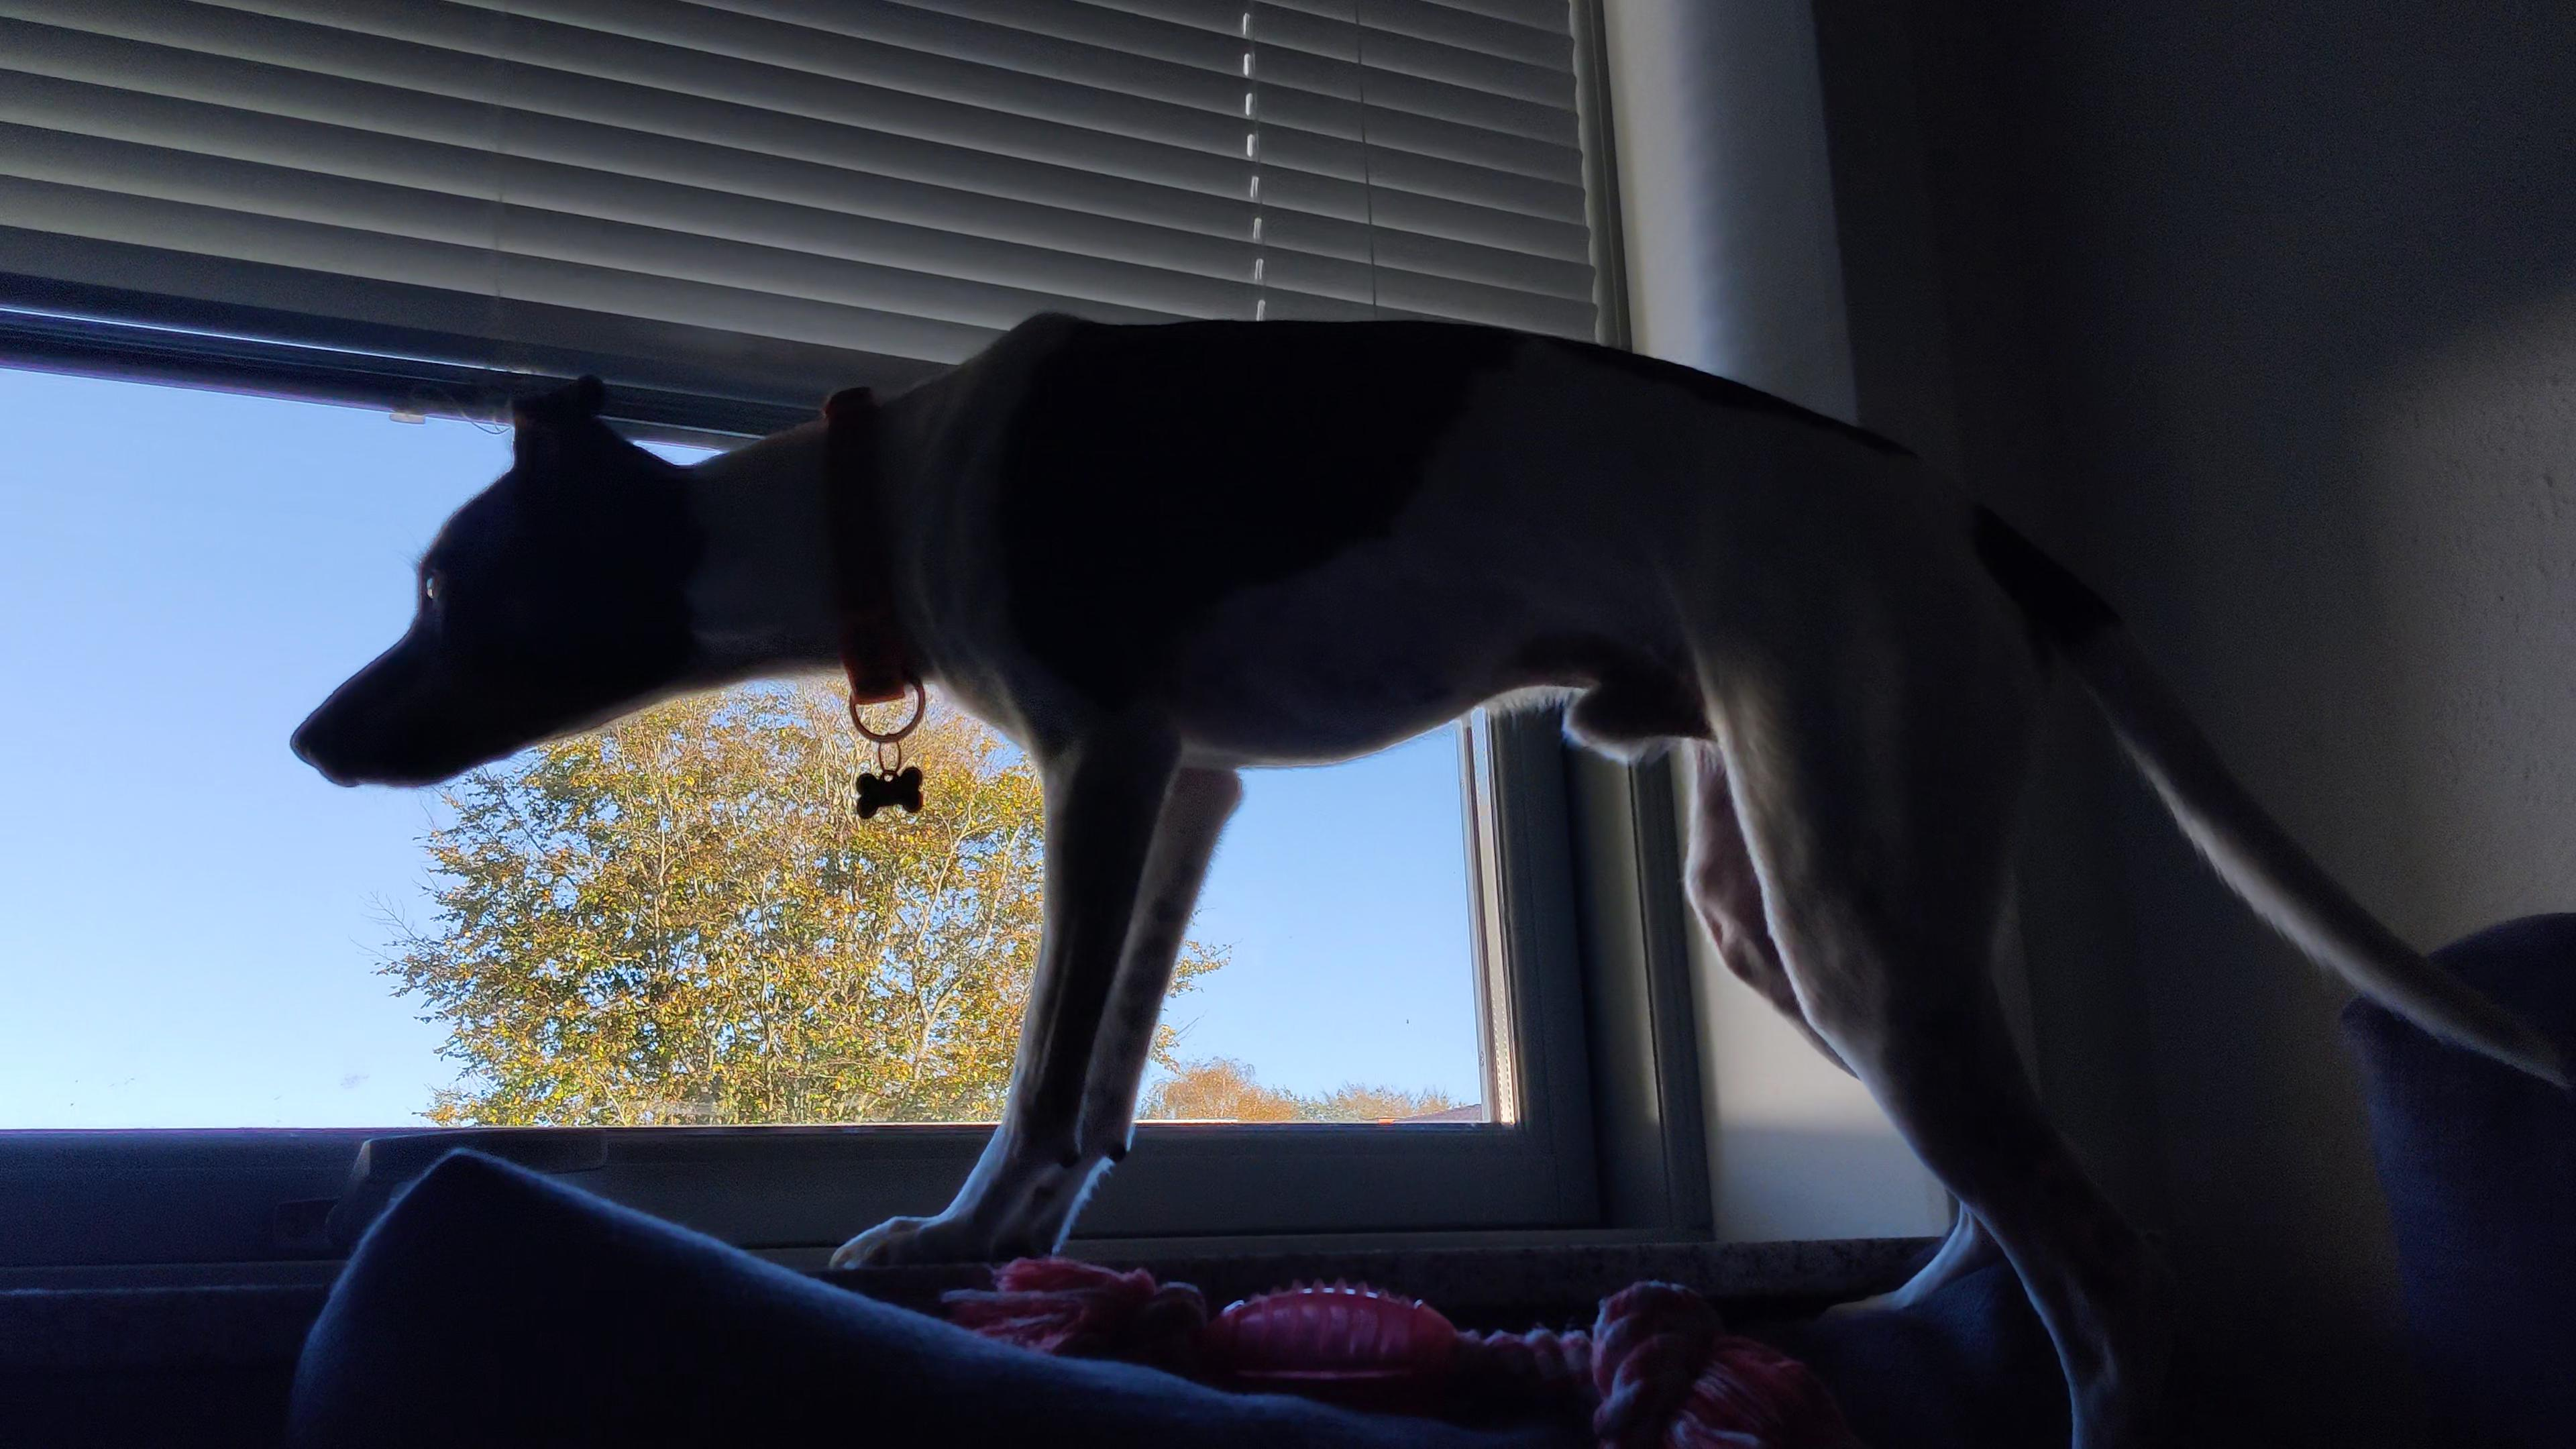Dog: (287, 303, 2576, 1449)
